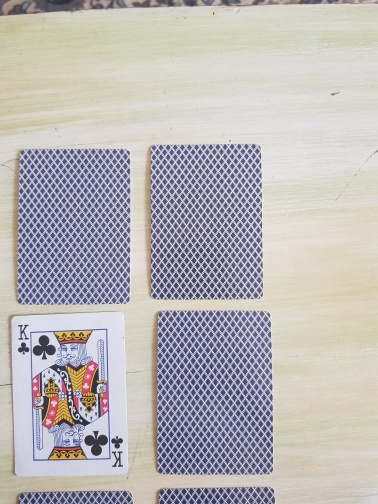king: (10, 310, 129, 477)
